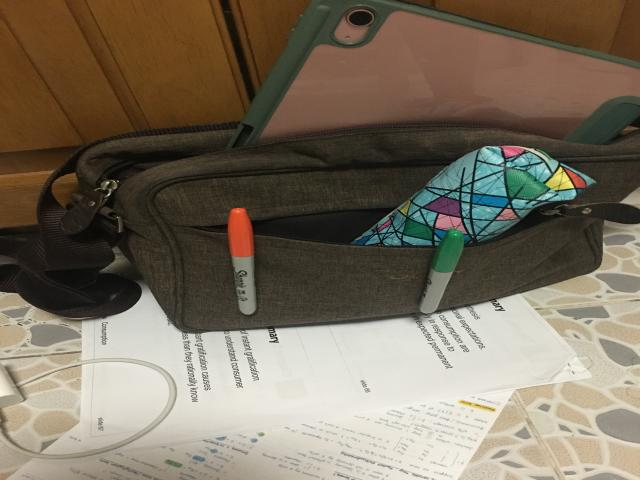Pen: (420, 228, 463, 314), (228, 208, 257, 315)
paper: (79, 244, 588, 459), (7, 391, 512, 480)
wire: (0, 358, 177, 459)
